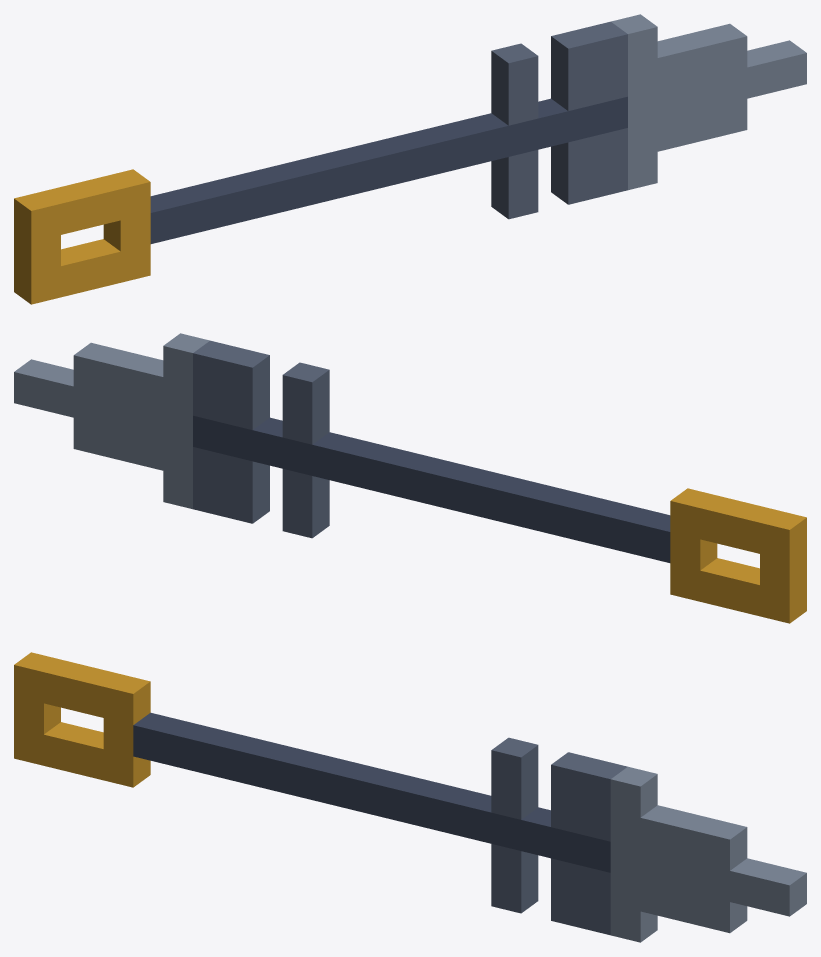
Rendered from harpoon.glb.
3 renders of one model, top to bottom at view 1: azimuth 30°, elevation 25°; view 2: azimuth 150°, elevation 25°; view 3: azimuth 330°, elevation 25°, orthographic.
Parts seen in each view (by area): view 1: harpoon; view 2: harpoon; view 3: harpoon.
Part boxes in pixels (x1=…): harpoon: x1=14, y1=14, x2=806, y2=304; harpoon: x1=14, y1=333, x2=806, y2=623; harpoon: x1=14, y1=652, x2=806, y2=942.
Bounding box in the file's own units: 1.62 × 0.3125 × 0.0625.
Materials: 1 (1 with a texture image).
